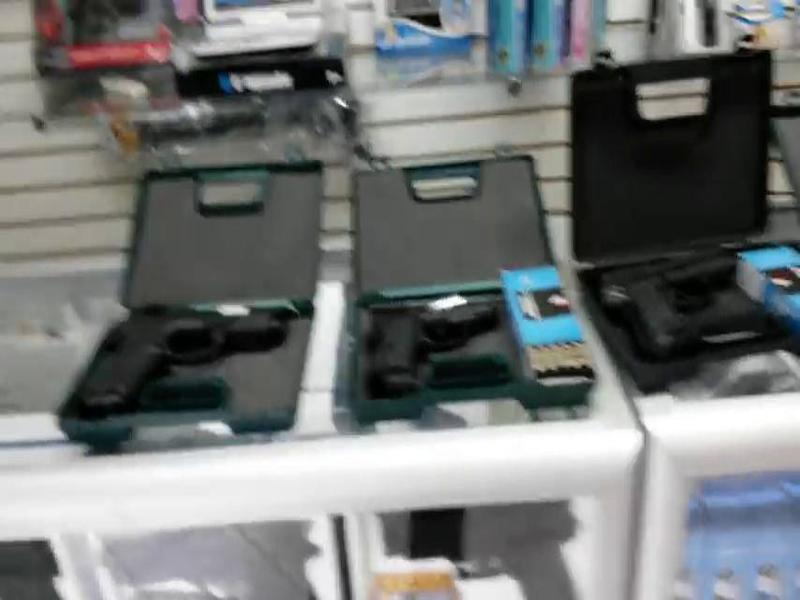Pistola: (77, 285, 289, 424), (357, 290, 509, 394), (597, 242, 736, 350)
